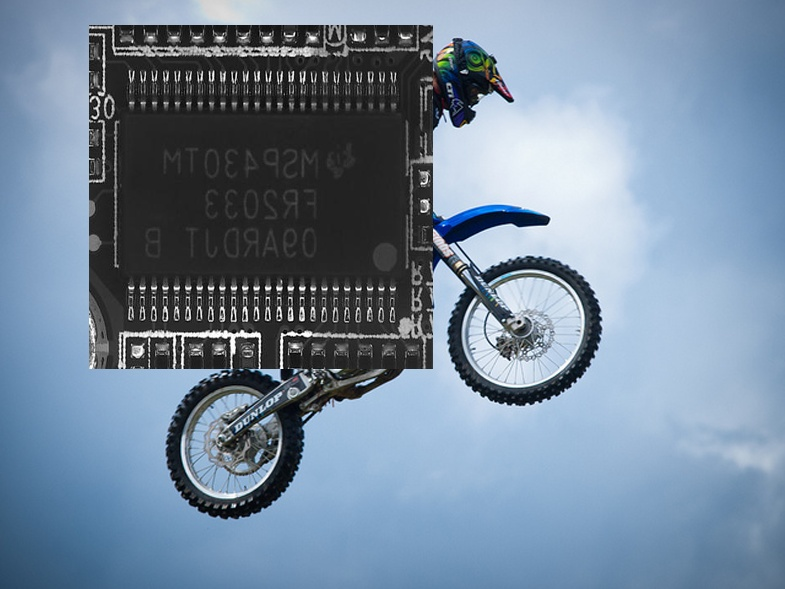PIN: (114, 59, 407, 127), (113, 262, 408, 327)
motorcycle: (142, 126, 603, 521)
